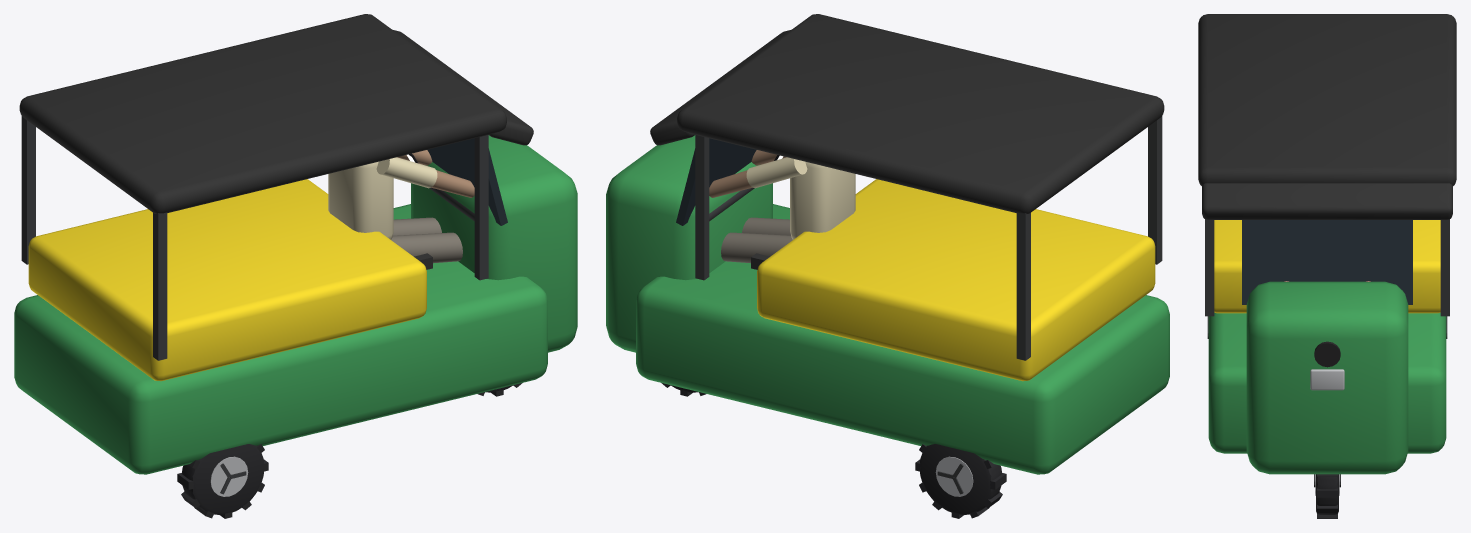
Rendered from auto.glb.
3 views of the same model, side by side, from view 1: azimuth 30°, elevation 25°; view 2: azimuth 150°, elevation 25°; view 3: azimuth 270°, elevation 25° (orthographic). The views are drawn at different scales.
Parts seen in each view (by area): view 1: AutoRickshaw_body, AutoRickshaw_wheel.002, AutoRickshaw_driver_torso, AutoRickshaw_driver_armR, AutoRickshaw_driver_legR, AutoRickshaw_driver_legL; view 2: AutoRickshaw_body, AutoRickshaw_wheel.001, AutoRickshaw_driver_torso, AutoRickshaw_driver_armL, AutoRickshaw_driver_legL, AutoRickshaw_driver_legR; view 3: AutoRickshaw_body, AutoRickshaw_wheel, AutoRickshaw_headlight.
Part boxes in pixels (x1,y1,x2,y2): AutoRickshaw_body: (14,14,577,474); AutoRickshaw_wheel.002: (177,444,268,518); AutoRickshaw_driver_torso: (328,161,393,239); AutoRickshaw_driver_armR: (376,157,474,197); AutoRickshaw_driver_legR: (391,232,462,263); AutoRickshaw_driver_legL: (393,217,441,235); AutoRickshaw_body: (606,14,1169,474); AutoRickshaw_wheel.001: (915,444,1006,518); AutoRickshaw_driver_torso: (790,161,855,239); AutoRickshaw_driver_armL: (709,157,807,197); AutoRickshaw_driver_legL: (721,232,792,263); AutoRickshaw_driver_legR: (742,217,790,235); AutoRickshaw_body: (1198,14,1456,474); AutoRickshaw_wheel: (1314,474,1340,518); AutoRickshaw_headlight: (1314,341,1340,367).
Size of the model in its own units: 2.67 by 1.85 by 1.36.
